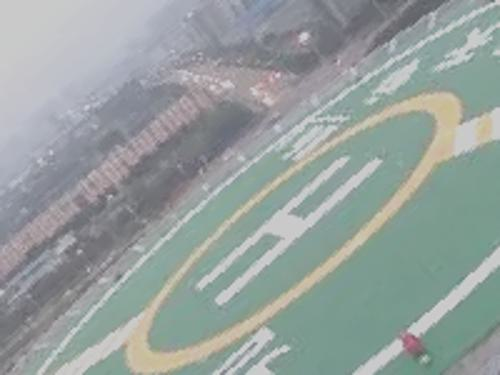Apron: (91, 84, 467, 375)
